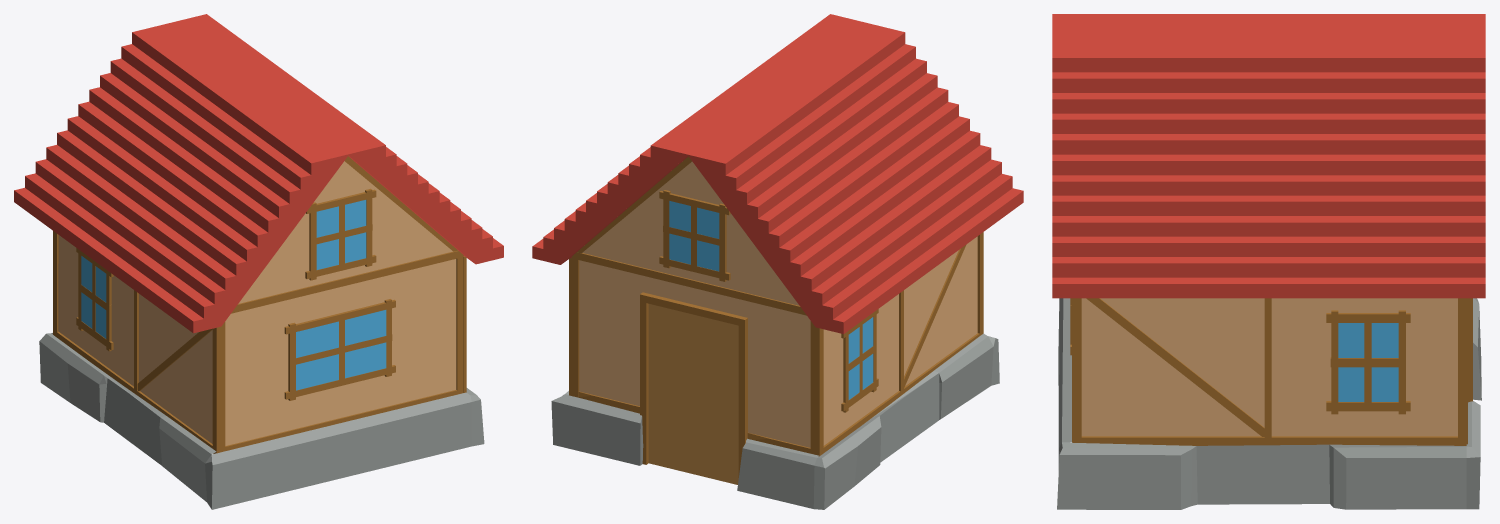
Rendered from House2.fbx.
3 renders of one model, left to right at view 1: azimuth 30°, elevation 25°; view 2: azimuth 150°, elevation 25°; view 3: azimuth 270°, elevation 25°, orthographic. The views are drawn at different scales.
Visible parts, largest first — view 1: House2; view 2: House2; view 3: House2.
Boxes of the visible parts, x1=… form: House2: x1=14, y1=14, x2=503, y2=509; House2: x1=532, y1=14, x2=1023, y2=509; House2: x1=1052, y1=14, x2=1485, y2=509.
Size of the model in its own units: 400 by 400 by 400.
